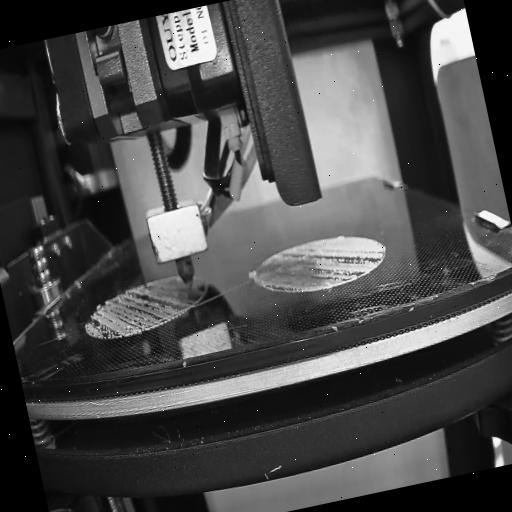under_extrusion: (258, 235, 388, 297), (83, 280, 194, 344)
